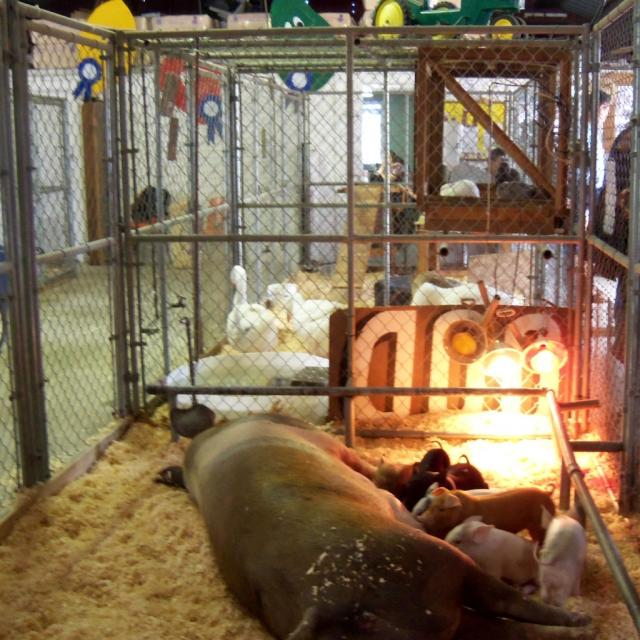Pig: (151, 401, 588, 640)
